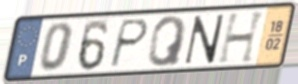0: (37, 20, 74, 74)
6: (77, 17, 111, 73)
H: (216, 9, 269, 66)
N: (182, 13, 227, 67)
P: (106, 18, 151, 71)
Q: (145, 14, 188, 69)
